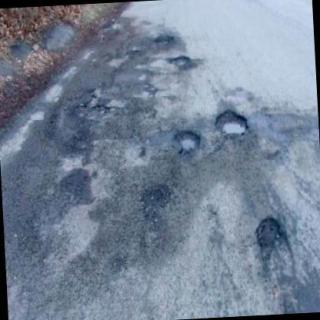pothole: (255, 218, 282, 258), (215, 110, 248, 139), (74, 98, 112, 120), (174, 131, 199, 154), (167, 55, 194, 68)
